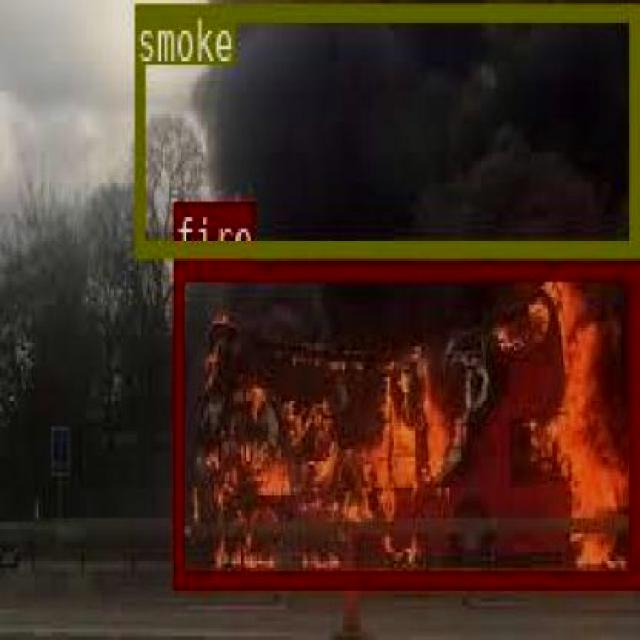fire: (172, 262, 636, 584)
smoke: (133, 0, 636, 252)
